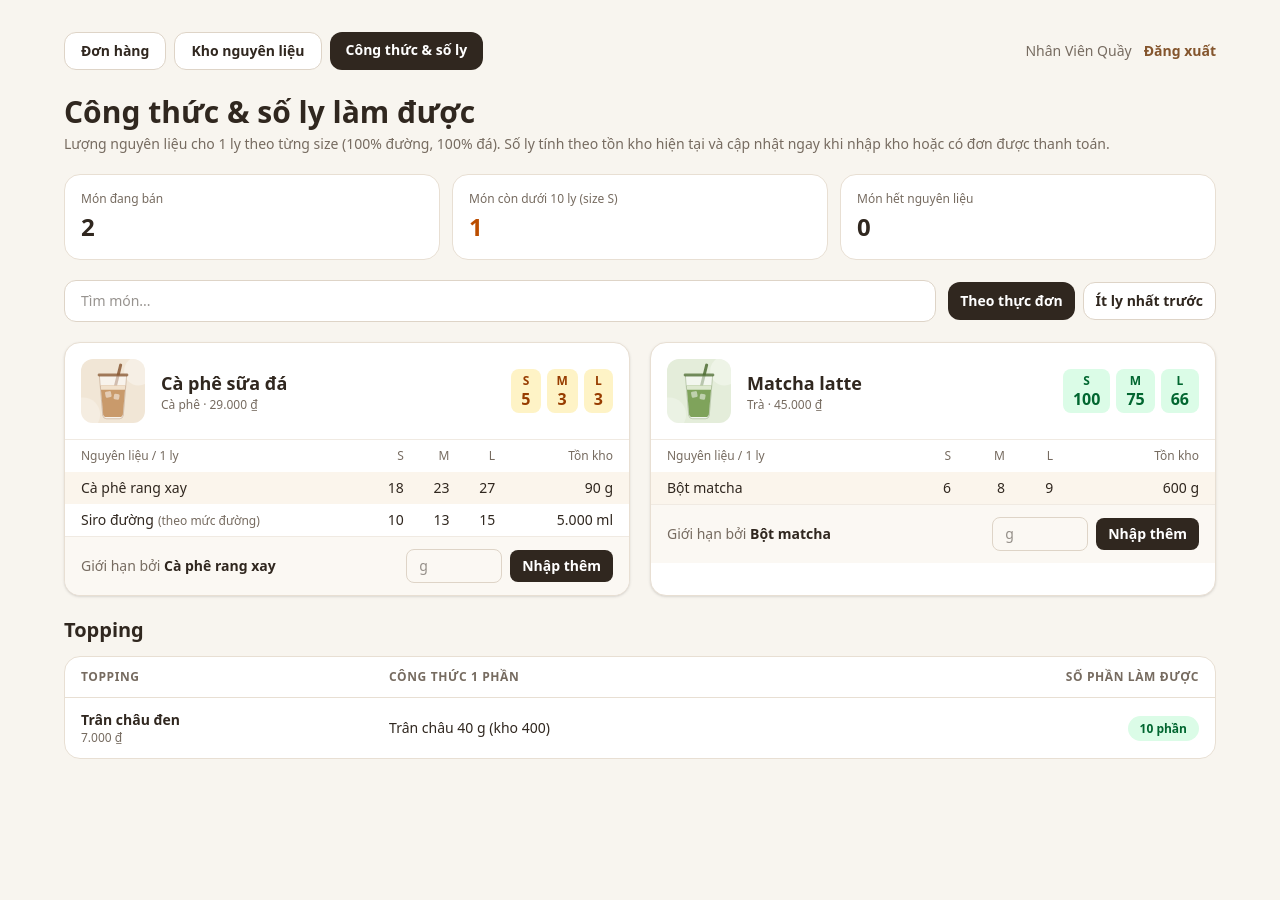
Test: Trang công thức /staff/recipes (FR-16, FR-17) › nhập thêm nguyên liệu giới hạn: gửi PATCH rồi tải lại, số ly tăng ngay
Type "900" into the number field named "Số lượng nhập Cà phê rang xay cho Cà phê sữa đá" at (454, 566), box [406,549,502,583]
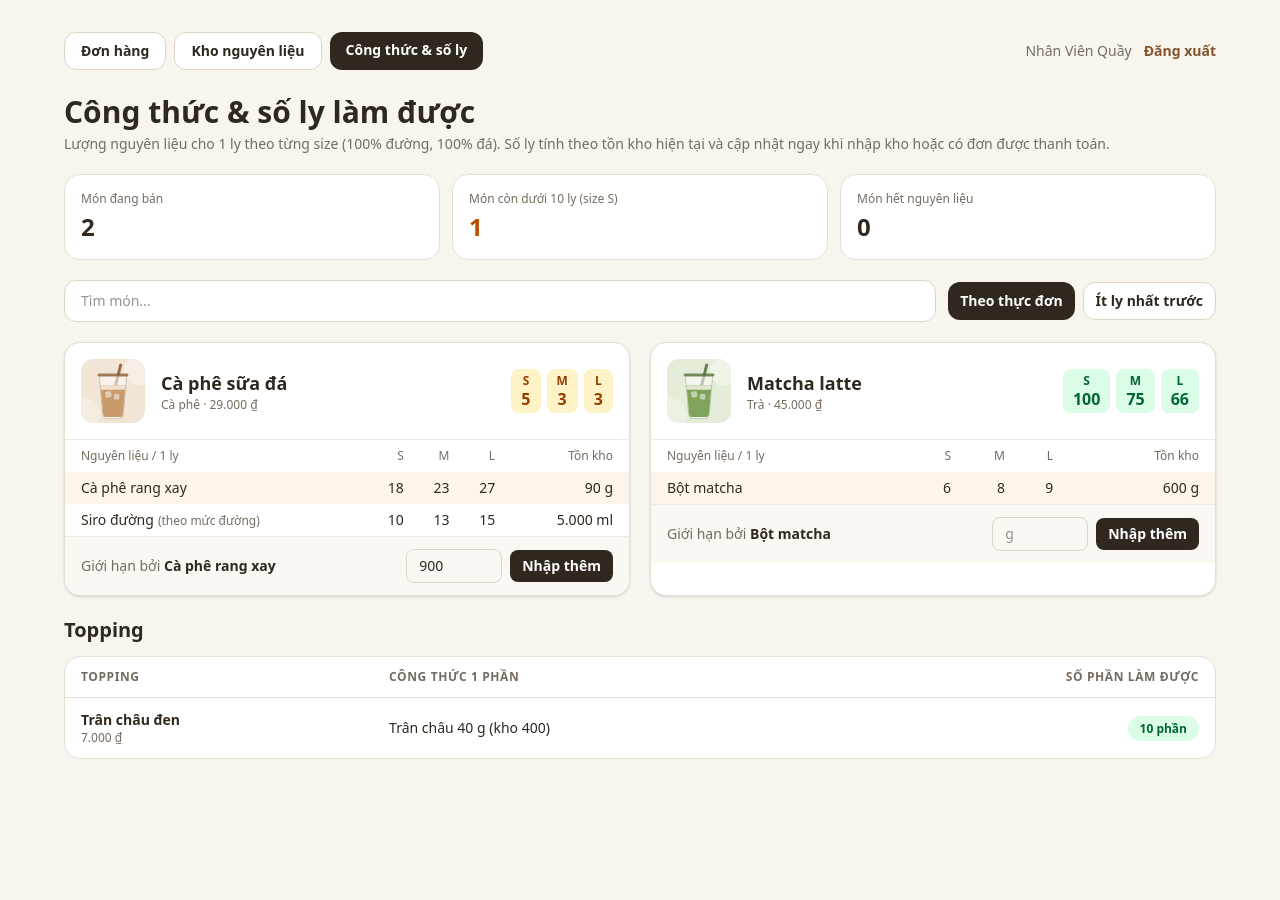
Click the button "Nhập thêm" below "theo mức đường" at (562, 566), box [510,550,613,582]
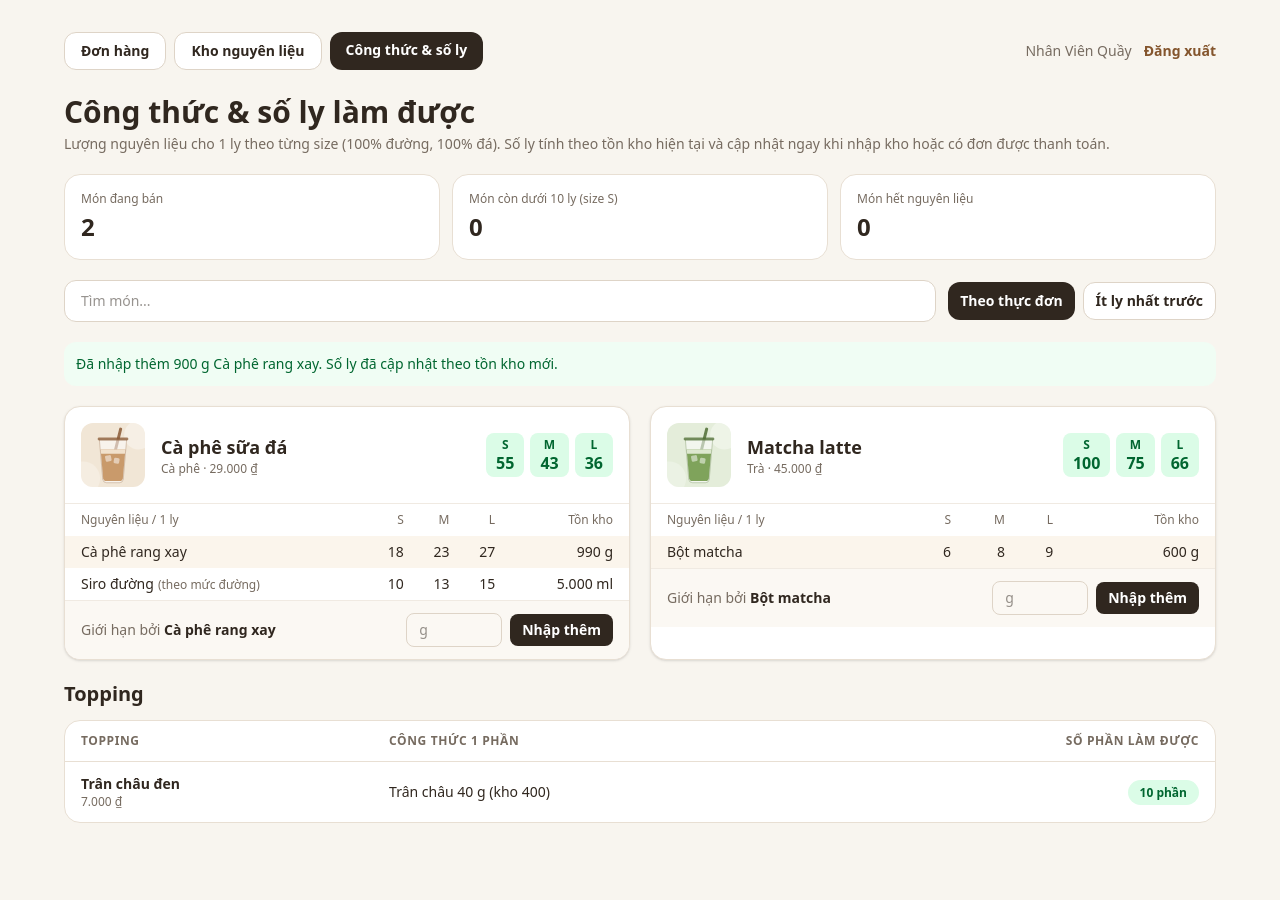
Check: the text "Đã nhập thêm 900 g Cà phê rang xay. Số ly đã cập nhật theo tồn kho mới." is shown, box [64,342,1216,386]
Check: the element named "Số ly làm được của Cà phê sữa đá" reads "S 55 M 43 L 36", box [486,433,613,477]
